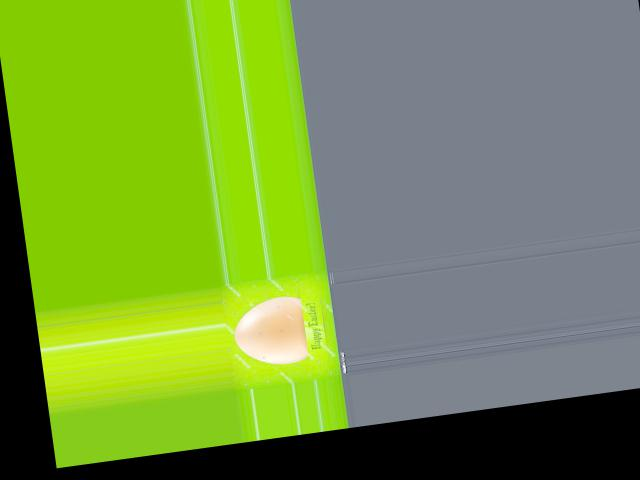egg: (230, 294, 308, 369)
